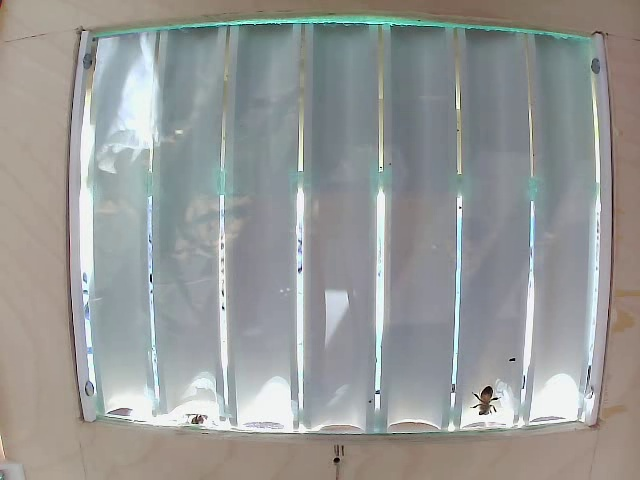bee: (472, 373, 507, 417)
